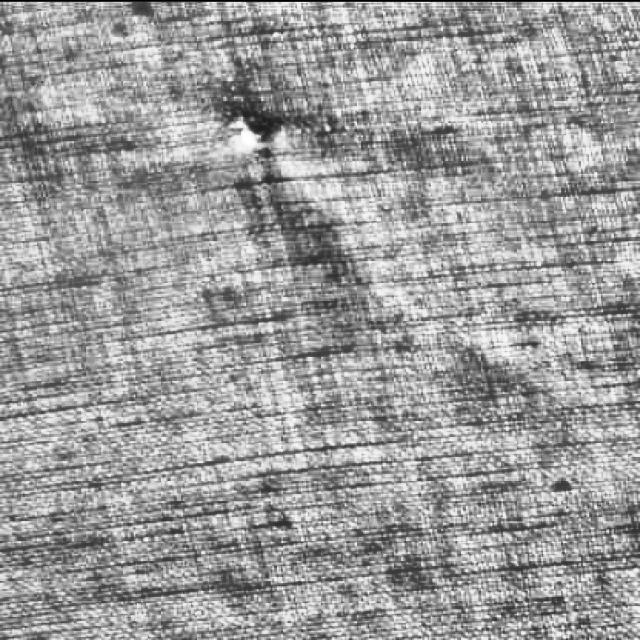hole: (222, 110, 277, 164)
